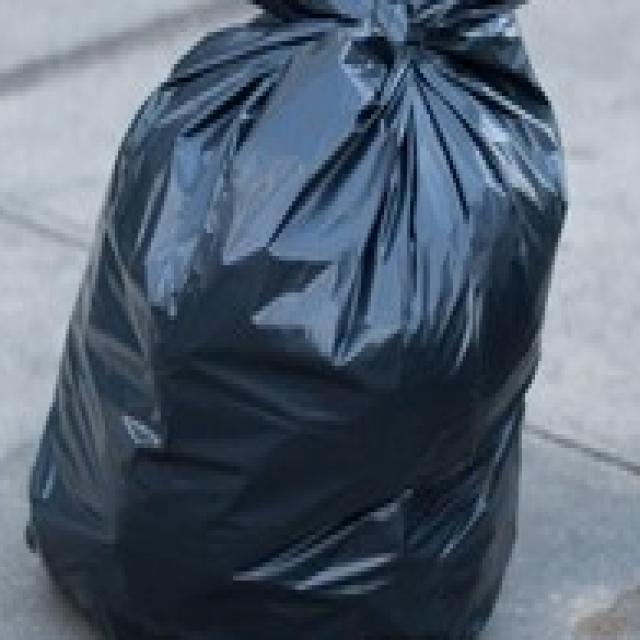Trashbag: (29, 16, 570, 621)
